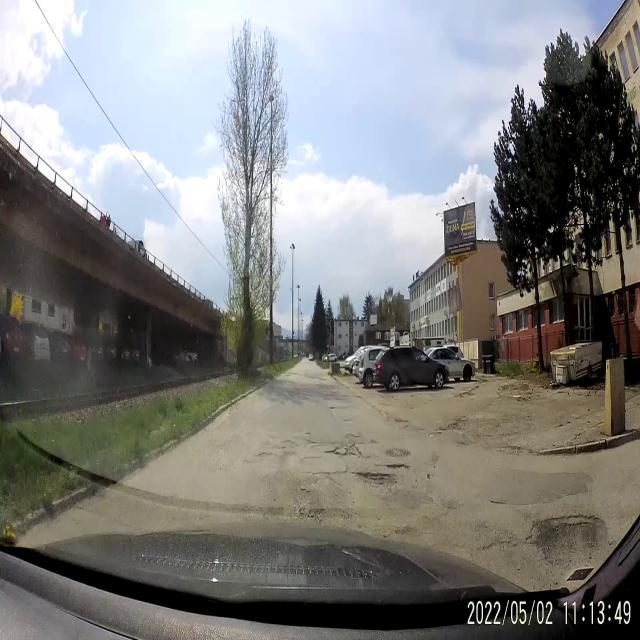Manhole: (384, 442, 414, 464)
Pothole: (526, 504, 610, 570), (352, 466, 398, 492), (326, 435, 366, 463), (430, 418, 464, 438), (303, 428, 322, 452), (256, 449, 278, 465), (386, 462, 413, 474), (488, 494, 506, 508), (392, 413, 409, 427), (280, 438, 297, 450), (342, 416, 352, 426)
